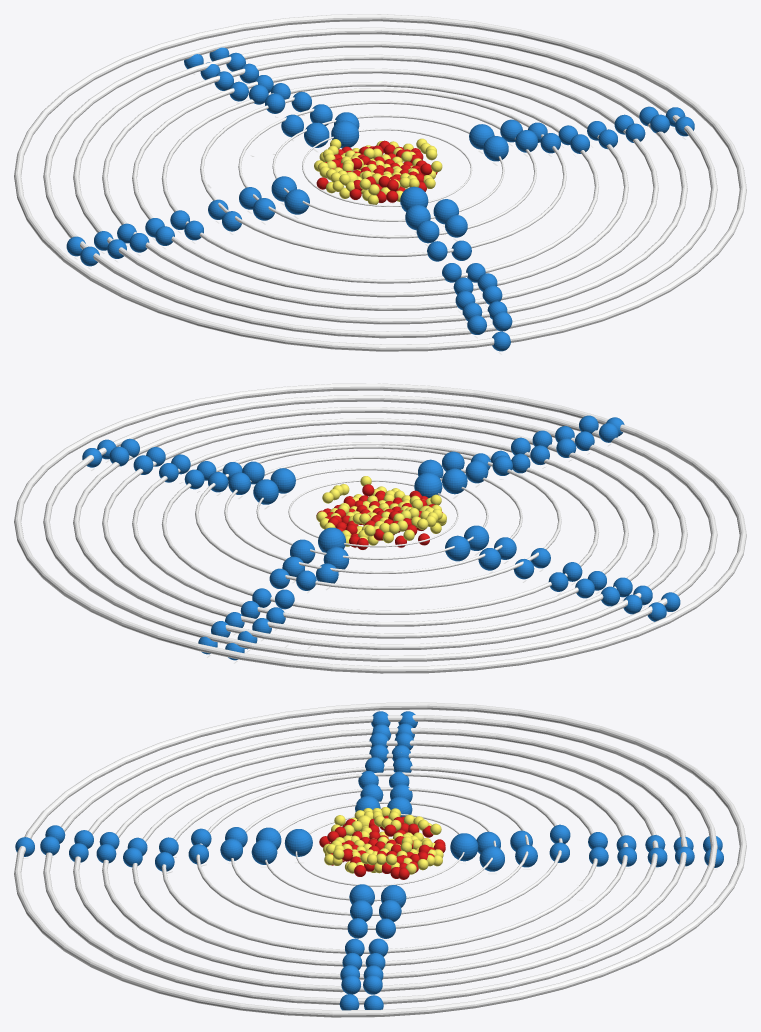
The picture shows the model from 3 angles, top to bottom: view 1: azimuth 30°, elevation 25°; view 2: azimuth 150°, elevation 25°; view 3: azimuth 270°, elevation 25°; orthographic projection.
Parts seen in each view (by area): view 1: Torus.010, Torus.009, Torus.008, Torus.007, Torus.006, Torus.005, Torus.004, Torus.003, Torus.002, Torus.001, g; view 2: Torus.010, Torus.009, Torus.008, Torus.007, Torus.006, Torus.005, Torus.004, Torus.003, Torus.002, Torus.001, g.001, g (+3 smaller); view 3: Torus.010, Torus.009, Torus.008, Torus.007, Torus.006, Torus.005, Torus.004, Torus.003, Torus.002, g.001, g, Torus.001 (+1 smaller).
Part boxes in pixels (left/top/right/bottom): Torus.010: left=14, top=14, right=746, bottom=351; Torus.009: left=43, top=27, right=717, bottom=338; Torus.008: left=73, top=41, right=687, bottom=324; Torus.007: left=102, top=54, right=658, bottom=310; Torus.006: left=132, top=68, right=628, bottom=297; Torus.005: left=161, top=82, right=598, bottom=283; Torus.004: left=200, top=88, right=566, bottom=256; Torus.003: left=238, top=101, right=536, bottom=238; Torus.002: left=272, top=115, right=504, bottom=221; Torus.001: left=302, top=128, right=472, bottom=206; g: left=331, top=120, right=359, bottom=148; Torus.010: left=14, top=383, right=746, bottom=673; Torus.009: left=43, top=395, right=717, bottom=661; Torus.008: left=73, top=407, right=687, bottom=649; Torus.007: left=102, top=418, right=658, bottom=638; Torus.006: left=132, top=430, right=628, bottom=626; Torus.005: left=161, top=442, right=599, bottom=614; Torus.004: left=195, top=445, right=561, bottom=589; Torus.003: left=224, top=456, right=522, bottom=573; Torus.002: left=256, top=468, right=488, bottom=559; Torus.001: left=288, top=480, right=458, bottom=547; g.001: left=414, top=472, right=442, bottom=497; g: left=318, top=527, right=345, bottom=552; Torus.010: left=14, top=702, right=746, bottom=1017; Torus.009: left=43, top=715, right=717, bottom=1004; Torus.008: left=73, top=727, right=687, bottom=992; Torus.007: left=102, top=740, right=658, bottom=979; Torus.006: left=132, top=753, right=628, bottom=966; Torus.005: left=161, top=766, right=597, bottom=953; Torus.004: left=196, top=772, right=562, bottom=929; Torus.003: left=231, top=787, right=529, bottom=915; Torus.002: left=265, top=801, right=496, bottom=901; g.001: left=284, top=829, right=312, bottom=856; g: left=450, top=833, right=478, bottom=861; Torus.001: left=295, top=813, right=464, bottom=886.
Size of the model in its own units: 25.86 by 2.85 by 25.83.
